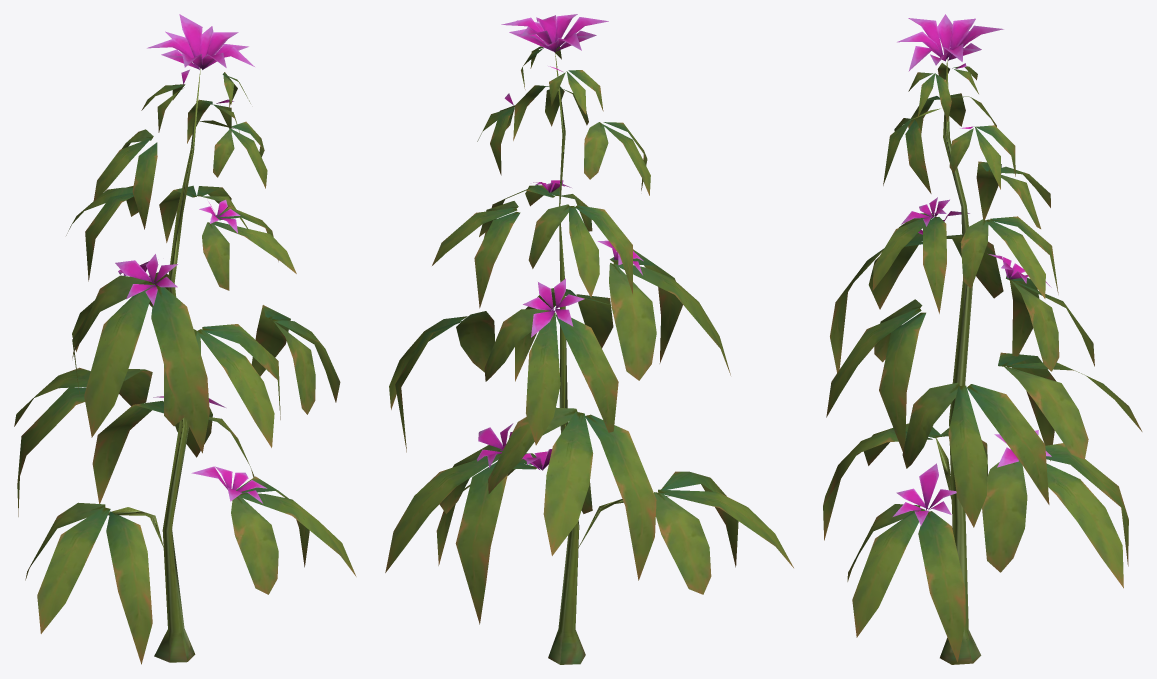
The model's file is jungle-tall-plant.lod0.glb.
3 views of the same model, side by side, from view 1: azimuth 30°, elevation 25°; view 2: azimuth 150°, elevation 25°; view 3: azimuth 270°, elevation 25° (orthographic). The views are drawn at different scales.
Parts seen in each view (by area): view 1: SM_JunglePlants_TallPlant_A_LOD0.mo_MI_JunglePlants_TallPlan; view 2: SM_JunglePlants_TallPlant_A_LOD0.mo_MI_JunglePlants_TallPlan; view 3: SM_JunglePlants_TallPlant_A_LOD0.mo_MI_JunglePlants_TallPlan.
Boxes of the visible parts, box(x1,y1,x2,y2) form: SM_JunglePlants_TallPlant_A_LOD0.mo_MI_JunglePlants_TallPlan: box(14, 14, 356, 664); SM_JunglePlants_TallPlant_A_LOD0.mo_MI_JunglePlants_TallPlan: box(385, 14, 793, 664); SM_JunglePlants_TallPlant_A_LOD0.mo_MI_JunglePlants_TallPlan: box(823, 14, 1142, 664).
Size of the model in its own units: 1.39 by 2.38 by 1.08.
1 material, 1 textured.
